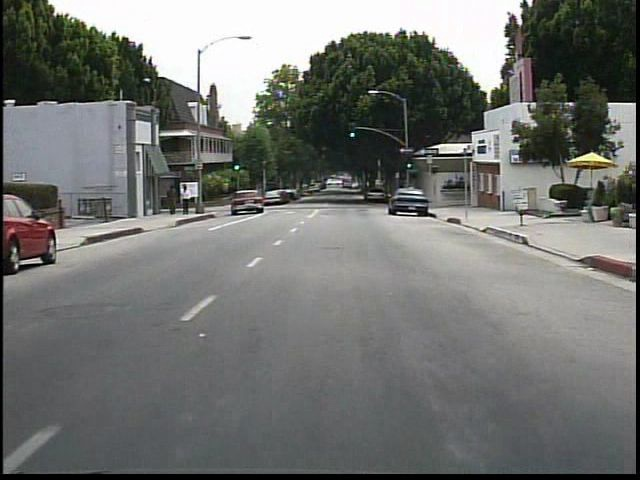person: (166, 184, 181, 216), (181, 185, 193, 216)
